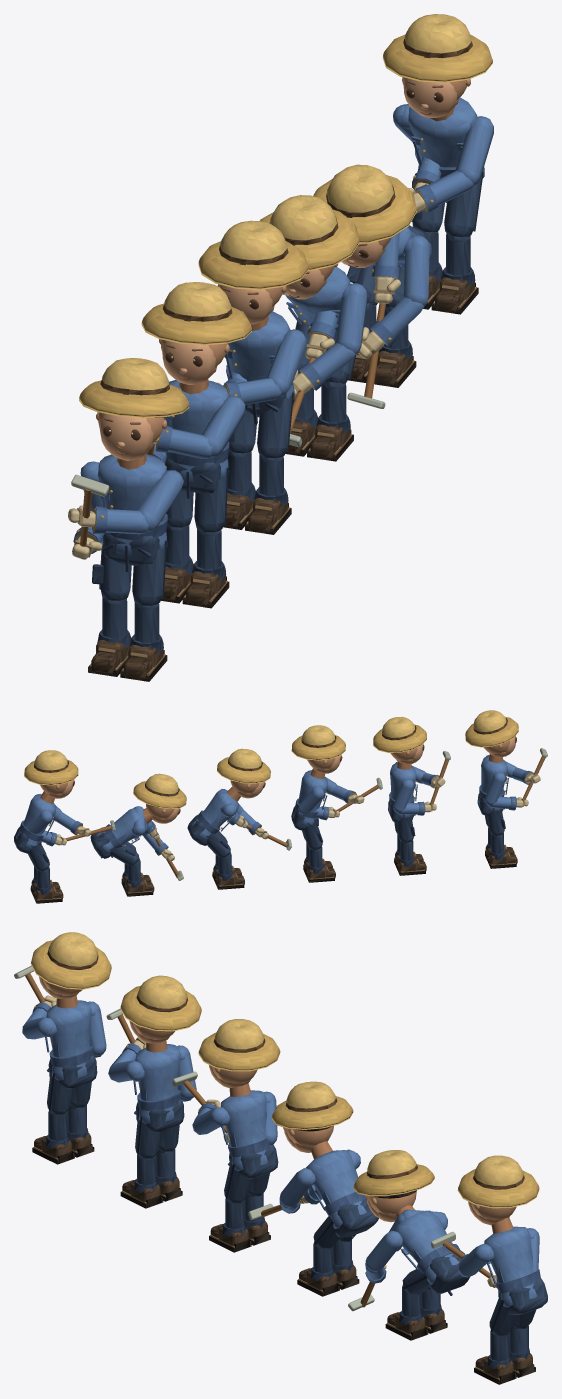
Rendered from ba-hoe-side-after.glb.
3 views of the same model, one above another, from view 1: azimuth 30°, elevation 25°; view 2: azimuth 150°, elevation 25°; view 3: azimuth 270°, elevation 25° (orthographic). The views are drawn at different scales.
Visible parts, largest first — view 1: strawHat (×6), denimJacketTorso (×5), leftShin (×6), head (×6), leftUpperArm (×6), rightShin (×4), leftLowerArm (×6), leftThigh (×4), trouserHips (×2), rightThigh (×2), rightLowerArm; view 2: strawHat (×6), denimJacketTorso (×6), rightShin (×6), rightThigh (×6), head (×6), rightUpperArm (×5), trouserHips (×4), rightLowerArm (×2), leftLowerArm; view 3: strawHat (×6), denimJacketTorso (×6), leftShin (×6), rightShin (×6), trouserHips (×6), leftUpperArm (×6), leftThigh (×5), head (×4), rightUpperArm.
Boxes of the visible parts, box(x1,y1,x2,y2) form: strawHat (×6): box(79, 14, 492, 417); denimJacketTorso (×5): box(97, 97, 484, 555); leftShin (×6): box(120, 233, 478, 681); head (×6): box(96, 77, 470, 460); leftUpperArm (×6): box(138, 116, 493, 531); rightShin (×4): box(88, 388, 317, 676); leftLowerArm (×6): box(93, 170, 473, 534); leftThigh (×4): box(132, 172, 483, 605); trouserHips (×2): box(102, 456, 220, 571); rightThigh (×2): box(92, 410, 257, 600); rightLowerArm: box(371, 232, 399, 278); strawHat (×6): box(24, 710, 518, 809); denimJacketTorso (×6): box(16, 754, 508, 854); rightShin (×6): box(33, 833, 517, 903); rightThigh (×6): box(28, 808, 505, 871); head (×6): box(40, 735, 516, 823); rightUpperArm (×5): box(27, 772, 505, 836); trouserHips (×4): box(14, 806, 318, 858); rightLowerArm (×2): box(397, 796, 516, 815); leftLowerArm: box(56, 812, 82, 834); strawHat (×6): box(31, 932, 539, 1208); denimJacketTorso (×6): box(45, 995, 540, 1307); leftShin (×6): box(32, 1110, 516, 1384); rightShin (×6): box(67, 1105, 535, 1377); trouserHips (×6): box(47, 1054, 547, 1315); leftUpperArm (×6): box(22, 1017, 494, 1277); leftThigh (×5): box(47, 1071, 517, 1336); head (×4): box(209, 1065, 516, 1225); rightUpperArm: box(88, 1001, 106, 1055).
Size of what is drawn, in the model's own units: 6.24 by 2.41 by 5.28.
